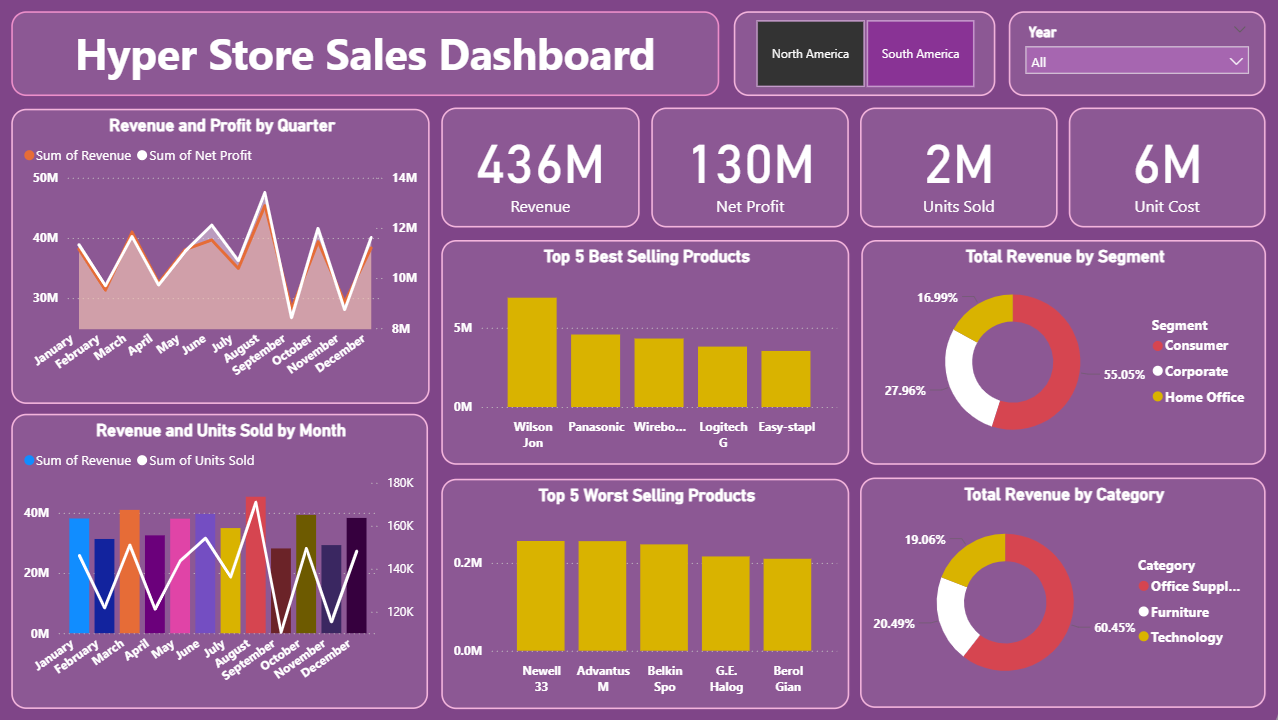

This screenshot's page, from the dashboard's own definition file:
{"tool":"powerbi","page":{"name":"Hyper Sales Dashboard","canvas":[1280,720],"ordinal":0},"visuals":[{"type":"textbox","box":[11.7,11.7,708.3,85],"z":0},{"type":"card","fields":{"Values":["HyperStoreSales.Revenue"]},"box":[441.2,107.4,198.3,120],"z":1000},{"type":"card","fields":{"Values":["HyperStoreSales.Net Profit"]},"box":[650.7,107.5,197.9,120],"z":2000},{"type":"card","fields":{"Values":["HyperStoreSales.Units Sold"]},"box":[860,107.5,197.9,120],"z":3000},{"type":"card","fields":{"Values":["HyperStoreSales.Unit Cost"]},"box":[1068.3,108,196.7,120],"z":4000},{"type":"lineChart","title":"Revenue and Profit by Quarter","fields":{"Y":["HyperStoreSales.Revenue"],"Y2":["HyperStoreSales.Net Profit"],"Category":["DateTable.Month"]},"box":[11.4,108.2,418.6,295],"z":5000},{"type":"lineStackedColumnComboChart","title":"Revenue and Units Sold by Month","fields":{"Category":["DateTable.Month"],"Y":["HyperStoreSales.Revenue"],"Y2":["HyperStoreSales.Units Sold"]},"box":[11.7,413.3,416.7,295],"z":6000},{"type":"columnChart","title":"Top 5 Best Selling Products","fields":{"Category":["HyperStoreSales.Product Name"],"Y":["HyperStoreSales.Revenue"]},"box":[441.7,240,408.3,225],"z":7000},{"type":"columnChart","title":"Top 5 Worst Selling Products","fields":{"Category":["HyperStoreSales.Product Name"],"Y":["HyperStoreSales.Revenue"]},"box":[441.7,478.3,408.3,230],"z":8000},{"type":"donutChart","title":"Total Revenue by Segment","fields":{"Y":["HyperStoreSales.Revenue"],"Category":["HyperStoreSales.Segment"]},"box":[861.7,240,405,225],"z":9000},{"type":"donutChart","title":"Total Revenue by Category","fields":{"Y":["HyperStoreSales.Revenue"],"Category":["HyperStoreSales.Category"]},"box":[860,483.3,405,225],"z":10000},{"type":"slicer","fields":{"Values":["DateTable.Year"]},"box":[1008.3,11.7,256.7,85],"z":11001},{"type":"slicer","fields":{"Values":["HyperStoreSales.Country (groups)"]},"box":[733.3,11.7,261.7,85],"z":11002}]}

Visuals, with their boxes in screenshot pixels (x1, y1, x2, y2), scaled from the page's 1280x720 canvas onto the 1278x720 screenshot:
textbox: box(12, 12, 719, 97)
card - HyperStoreSales.Revenue: box(441, 107, 639, 227)
card - HyperStoreSales.Net Profit: box(650, 108, 847, 228)
card - HyperStoreSales.Units Sold: box(859, 108, 1056, 228)
card - HyperStoreSales.Unit Cost: box(1067, 108, 1263, 228)
"Revenue and Profit by Quarter" lineChart: box(11, 108, 429, 403)
"Revenue and Units Sold by Month" lineStackedColumnComboChart: box(12, 413, 428, 708)
"Top 5 Best Selling Products" columnChart: box(441, 240, 849, 465)
"Top 5 Worst Selling Products" columnChart: box(441, 478, 849, 708)
"Total Revenue by Segment" donutChart: box(860, 240, 1265, 465)
"Total Revenue by Category" donutChart: box(859, 483, 1263, 708)
slicer - DateTable.Year: box(1007, 12, 1263, 97)
slicer - HyperStoreSales.Country (groups): box(732, 12, 993, 97)
